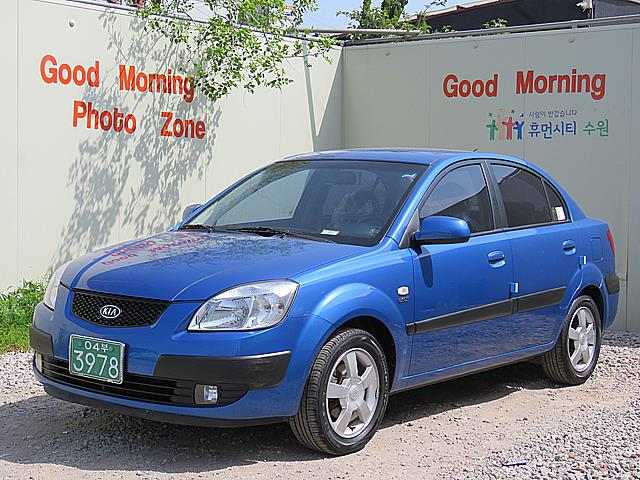plate: (71, 336, 121, 382)
